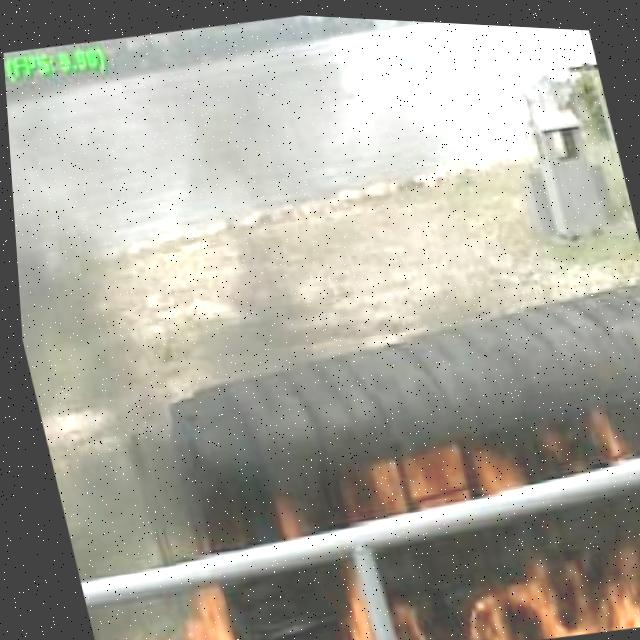Fire: (431, 510, 640, 640), (321, 424, 517, 520), (515, 384, 640, 469), (315, 548, 421, 640), (97, 586, 246, 640)
